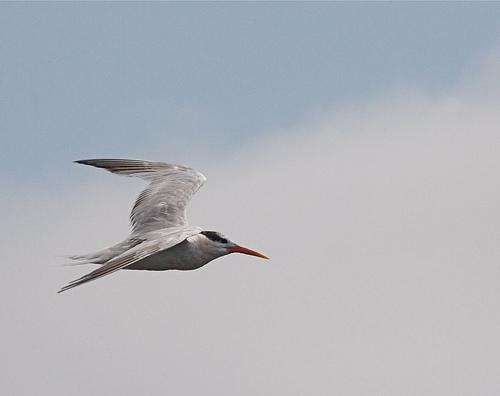bird: (48, 157, 273, 294)
